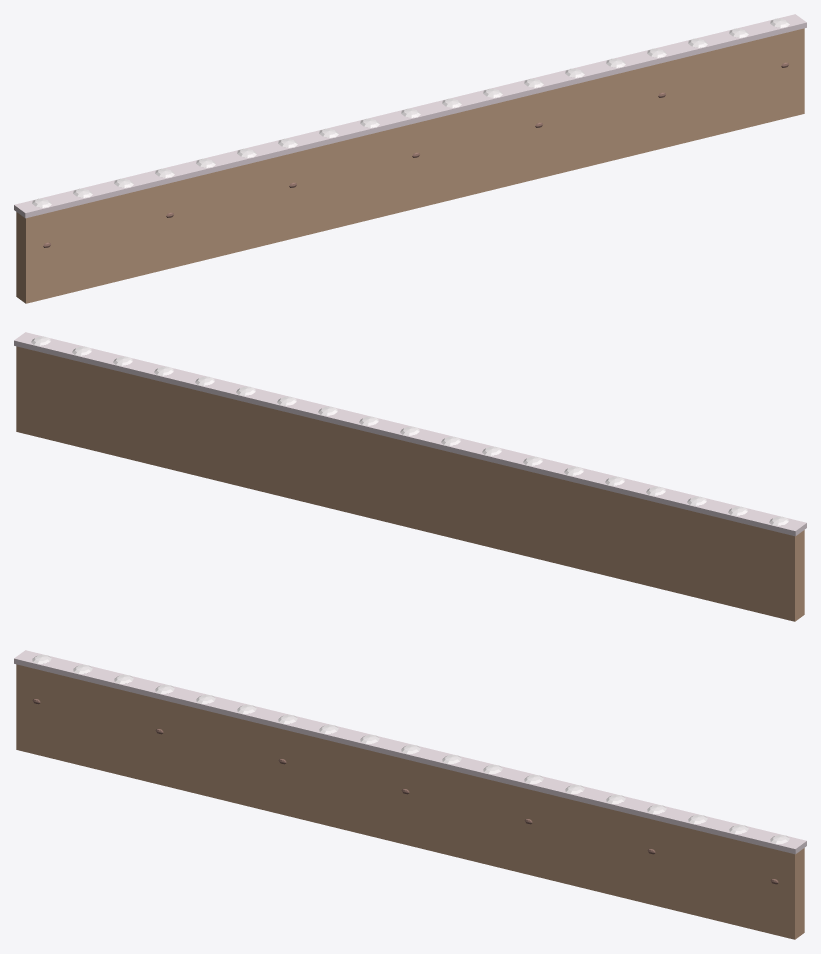
File: muro_galleta.glb
3 renders of one model, top to bottom at view 1: azimuth 30°, elevation 25°; view 2: azimuth 150°, elevation 25°; view 3: azimuth 330°, elevation 25°, orthographic.
Visible parts, largest first — view 1: muro_galleta; view 2: muro_galleta; view 3: muro_galleta.
Boxes of the visible parts, x1,y1,x2,y2 form: muro_galleta: (14,14,806,303); muro_galleta: (14,332,806,621); muro_galleta: (14,650,806,939).
Size of the model in its own units: 18.87 by 2.17 by 0.5.
